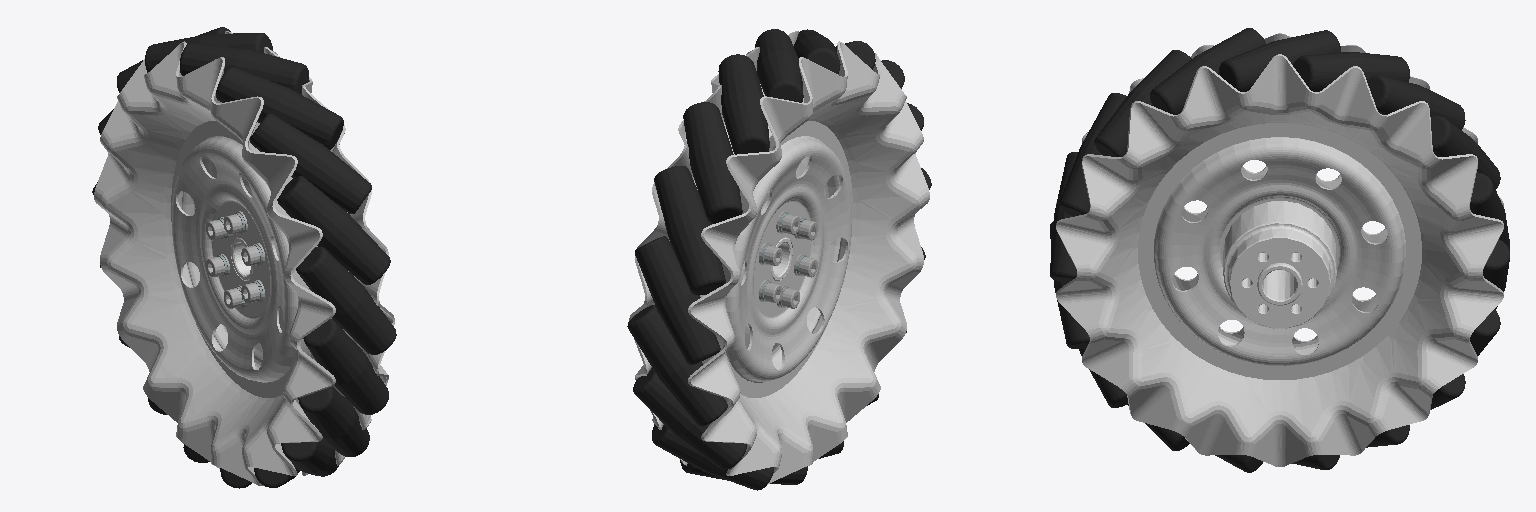
The model's file is wheel_mecanumA.obj.
The picture shows the model from 3 angles: view 1: azimuth 30°, elevation 25°; view 2: azimuth 150°, elevation 25°; view 3: azimuth 270°, elevation 25°; orthographic projection.
Parts seen in each view (by area): view 1: A003-0100-A-ADNA-R03_URDF_MecanumWheelA; view 2: A003-0100-A-ADNA-R03_URDF_MecanumWheelA; view 3: A003-0100-A-ADNA-R03_URDF_MecanumWheelA.
Boxes of the visible parts, x1=… form: A003-0100-A-ADNA-R03_URDF_MecanumWheelA: x1=92, y1=27, x2=396, y2=488; A003-0100-A-ADNA-R03_URDF_MecanumWheelA: x1=627, y1=29, x2=931, y2=490; A003-0100-A-ADNA-R03_URDF_MecanumWheelA: x1=1050, y1=28, x2=1509, y2=472.
Size of the model in its own units: 61.68 by 202 by 203.